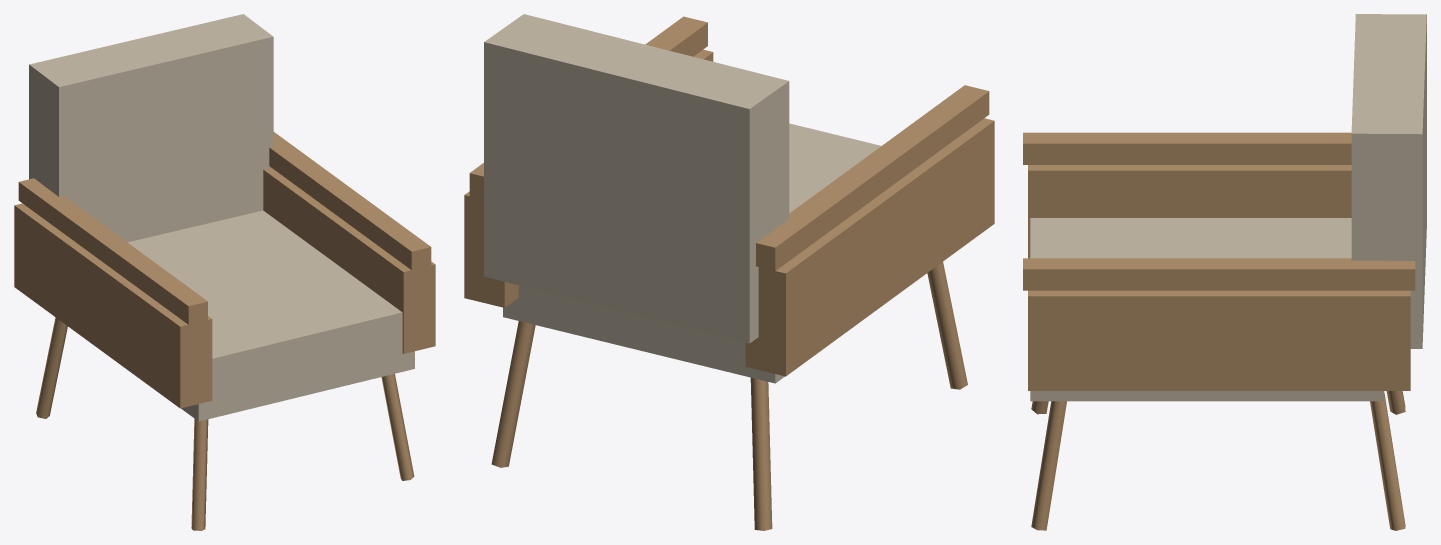
The model's file is armchair-2.glb.
3 renders of one model, left to right at view 1: azimuth 30°, elevation 25°; view 2: azimuth 150°, elevation 25°; view 3: azimuth 270°, elevation 25°, orthographic. The views are drawn at different scales.
Parts seen in each view (by area): view 1: armchair:2:editor; view 2: armchair:2:editor; view 3: armchair:2:editor.
Part boxes in pixels (box(x1,y1,x2,y2)): armchair:2:editor: box(14, 14, 435, 530); armchair:2:editor: box(464, 14, 994, 530); armchair:2:editor: box(1023, 14, 1426, 530).
Bounding box in the file's own units: 0.7183 × 0.924 × 0.8524.
